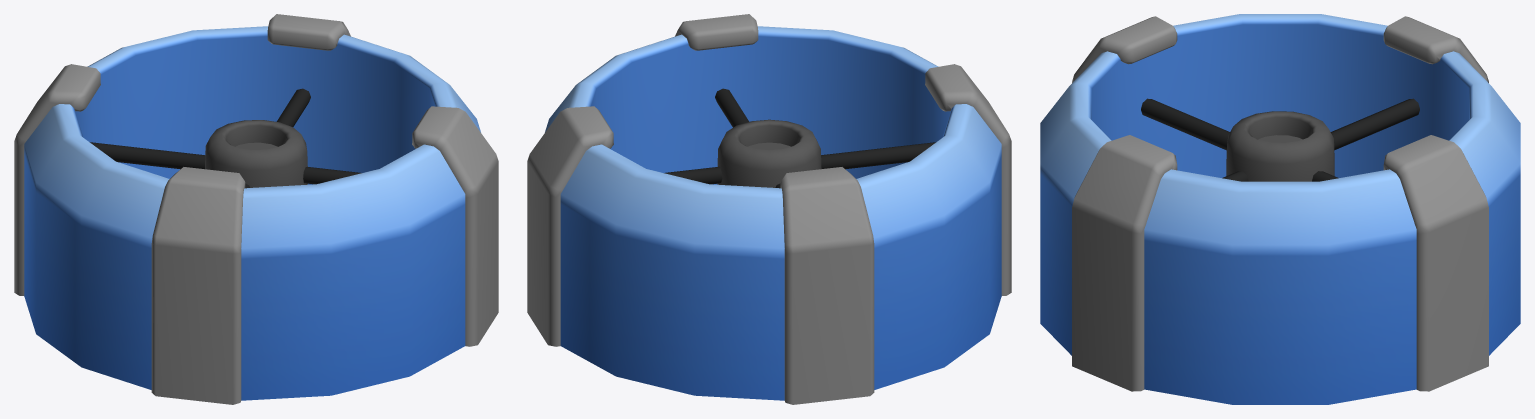
Rendered from coolershell_001.fbx.
3 views of the same model, side by side, from view 1: azimuth 30°, elevation 25°; view 2: azimuth 150°, elevation 25°; view 3: azimuth 270°, elevation 25° (orthographic). The views are drawn at different scales.
Parts seen in each view (by area): view 1: coolershell_001; view 2: coolershell_001; view 3: coolershell_001.
Boxes of the visible parts, x1,y1,x2,y2 form: coolershell_001: (14,14,498,404); coolershell_001: (527,14,1011,404); coolershell_001: (1040,14,1520,404).
Bounding box in the file's own units: 791 × 791 × 389.
